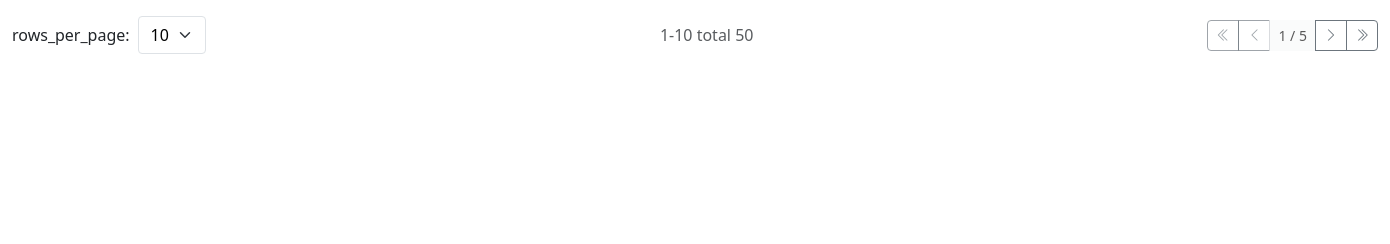
Test: Pagination › Page Size Selector › renders page size options
Click the button with class "form-select": (172, 35) [138,16,206,54]
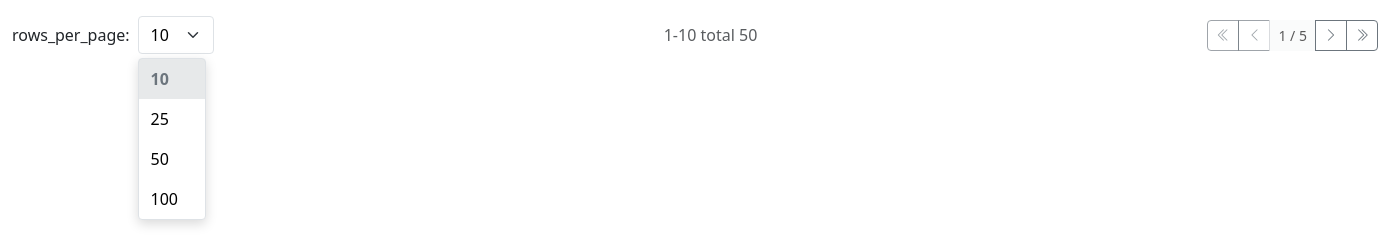
Result: the number of options with class "select-option" is 4 at [138,59,205,99]; [138,99,205,139]; [138,139,205,179]; [138,179,205,219]
